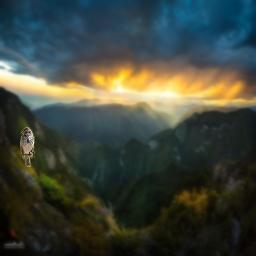Sparrow: (20, 127, 35, 167)
